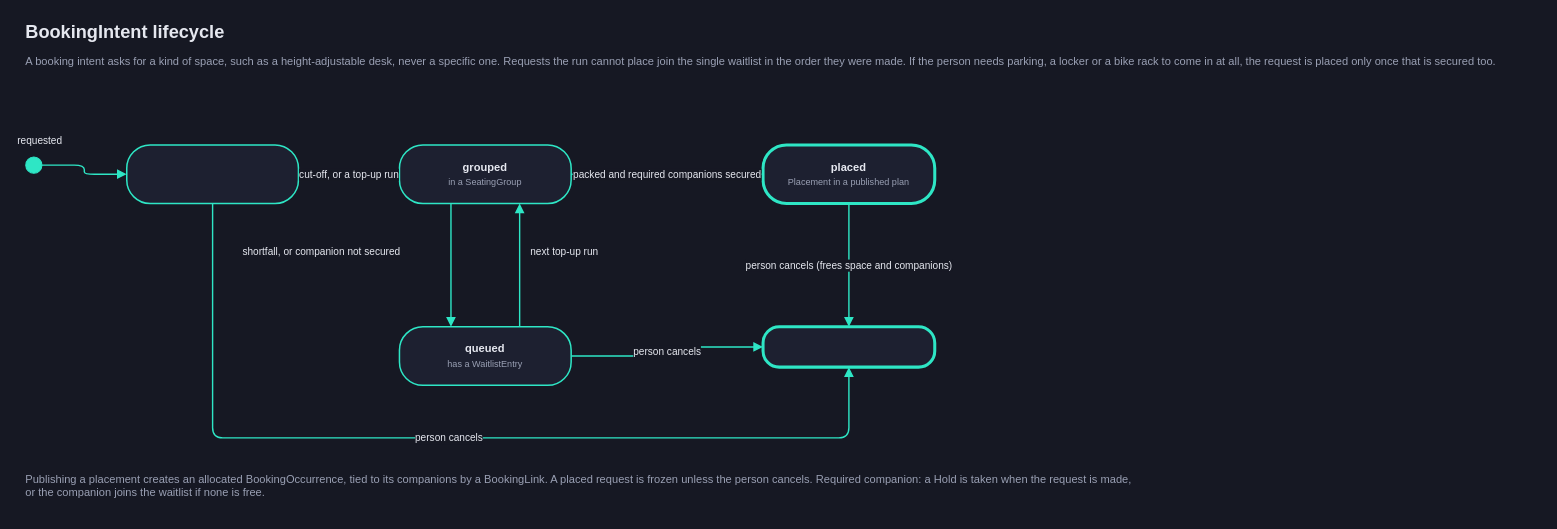
This 1557x529 diagram has some shape labels left out. The shapes that lost their labels are listed below. From the top down, each one's box as (x1, y1, x2, y2) in pixels, then its label:
(126, 144, 299, 204): open requested_at stamps the queue order
(761, 325, 936, 368): cancelled
